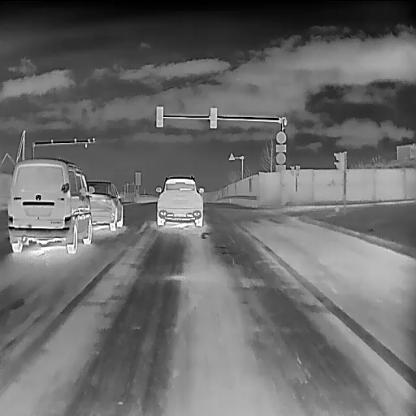car: (6, 155, 95, 254), (155, 174, 204, 227), (83, 178, 125, 231)
